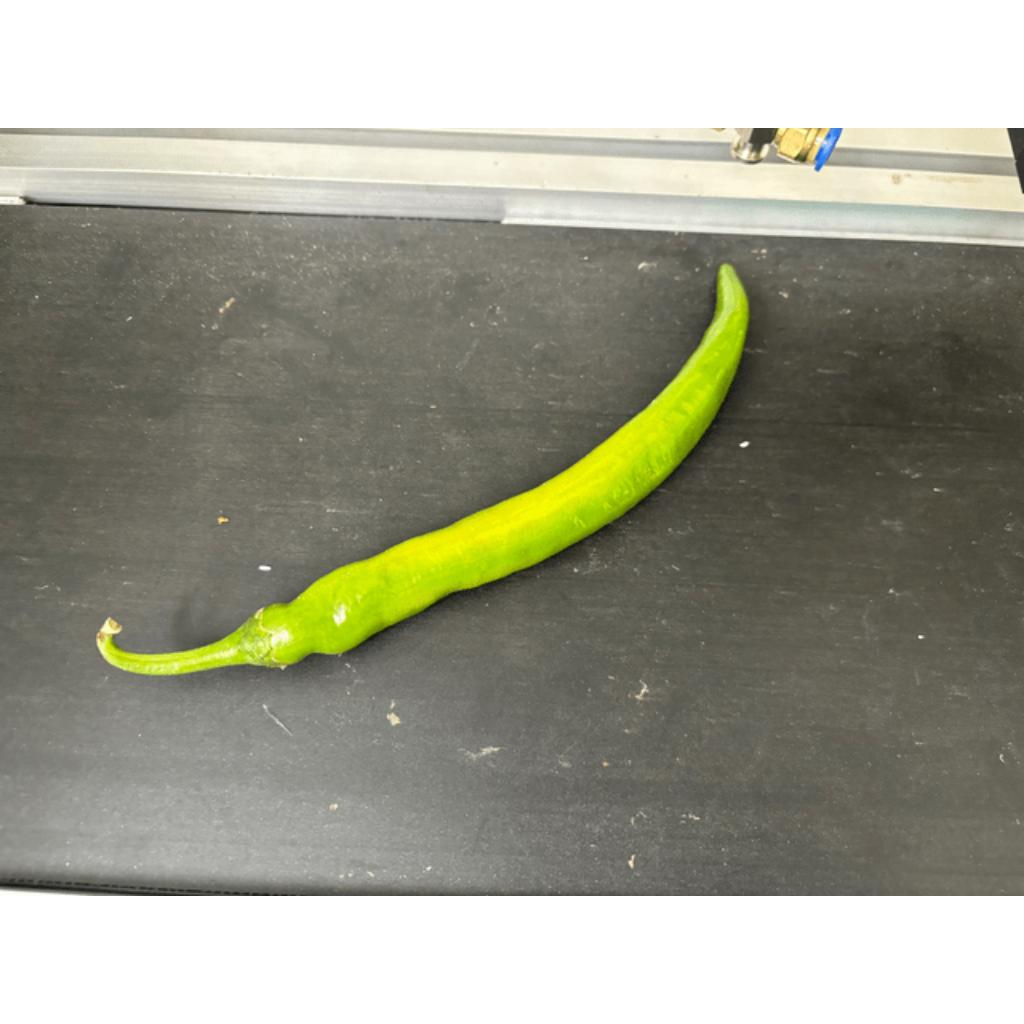chili: (231, 260, 752, 670)
